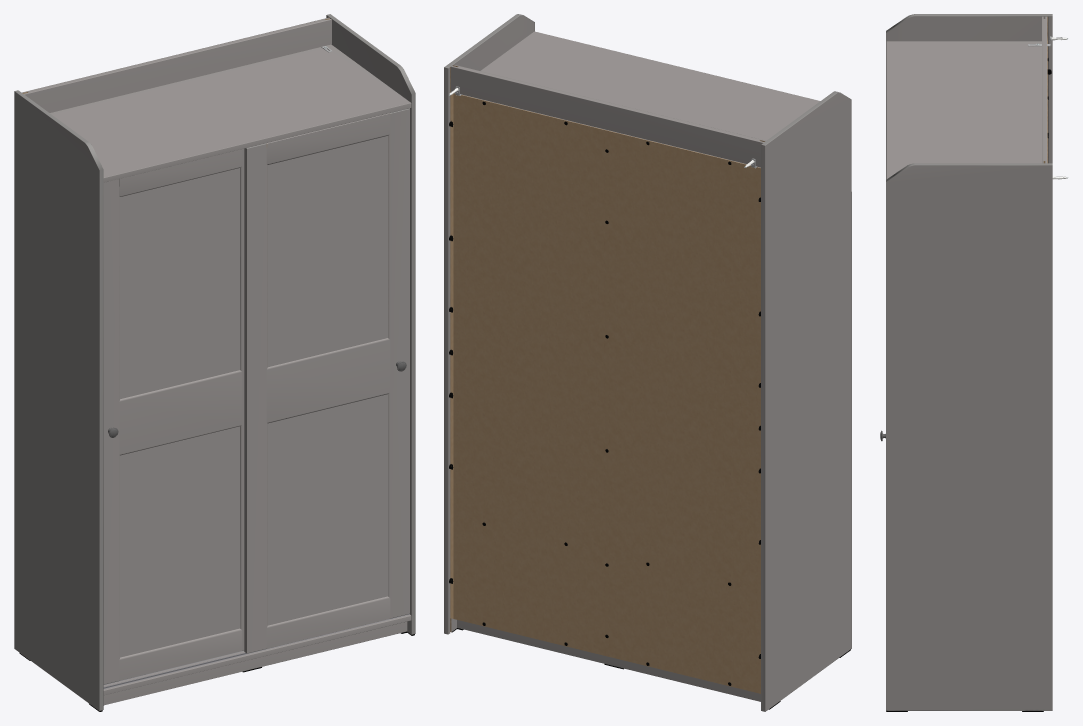
Rendered from hauga_wardrobe_with_sliding_doors_gray.glb.
3 renders of one model, left to right at view 1: azimuth 30°, elevation 25°; view 2: azimuth 150°, elevation 25°; view 3: azimuth 270°, elevation 25°, orthographic. The views are drawn at different scales.
Visible parts, largest first — view 1: Mesh_0; view 2: Mesh_0; view 3: Mesh_0.
Part boxes in pixels (x1=…): Mesh_0: x1=14, y1=14, x2=415, y2=711; Mesh_0: x1=444, y1=14, x2=851, y2=711; Mesh_0: x1=880, y1=14, x2=1068, y2=711.
Bounding box in the file's own units: 1.18 × 1.99 × 0.6209.
1 material, 1 textured.
